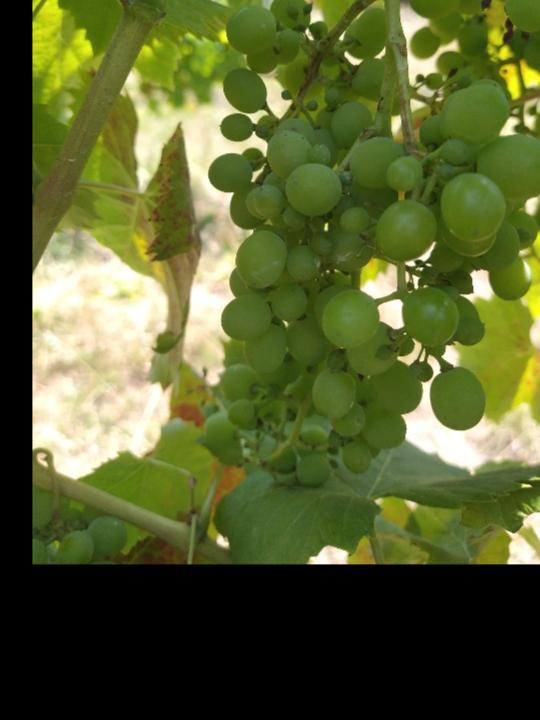grape: (196, 0, 540, 491)
